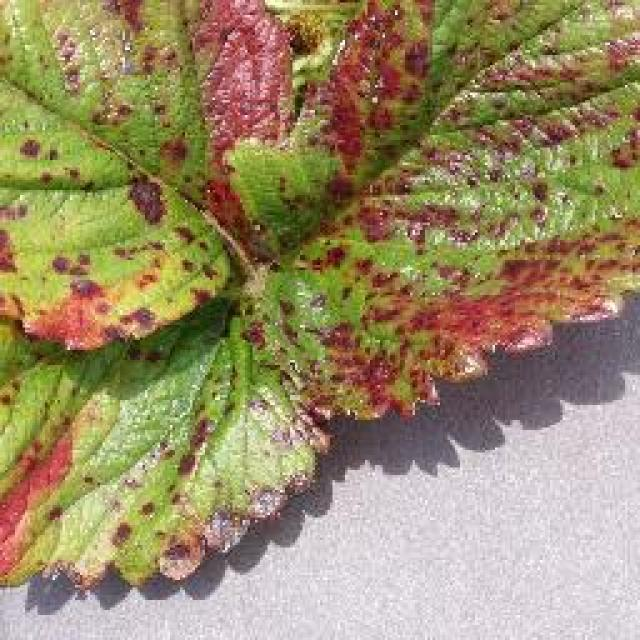Strawberry leaf scorch: (20, 2, 640, 513)
